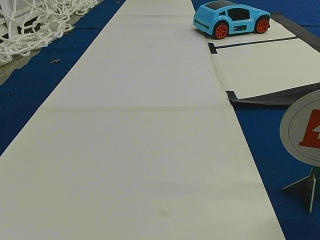battery: (278, 90, 319, 170)
car: (193, 3, 269, 38)
